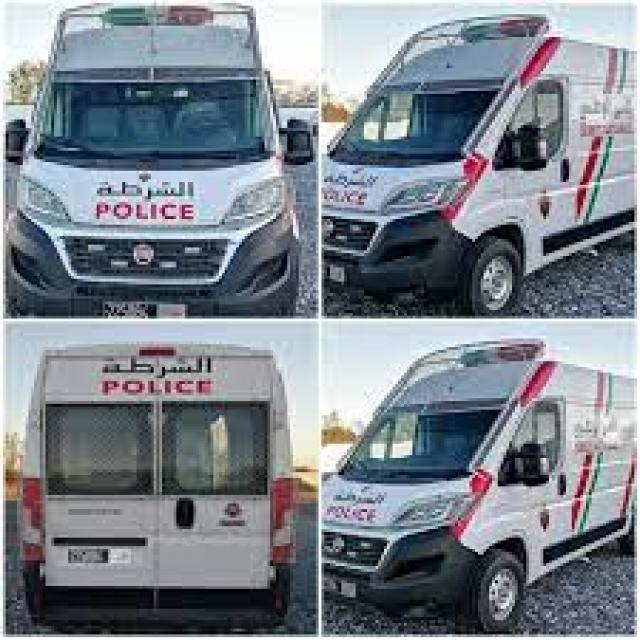police: (0, 5, 314, 318), (335, 19, 640, 308), (315, 346, 640, 614), (20, 353, 296, 624)
